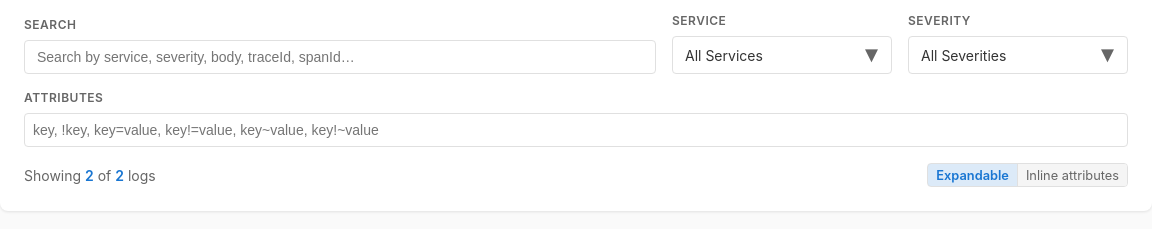
Scenario: LogFilters › selects a service from the custom picker
Click the button labelled "All Services ▾".
click(782, 55)  # box left=672, top=36, right=892, bottom=74
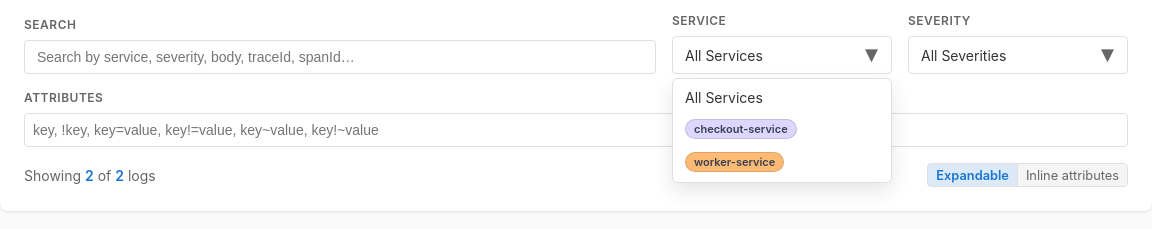
Click the button "worker-service".
click(782, 162)  # box left=677, top=146, right=887, bottom=178
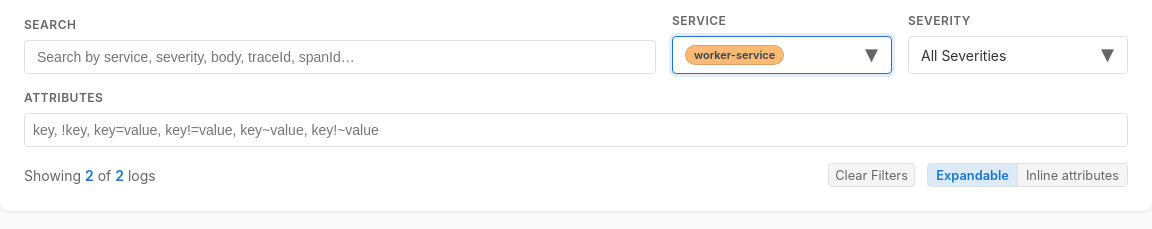
Expected: the button labelled "worker-service ▾" is shown, left=672, top=36, right=892, bottom=74
